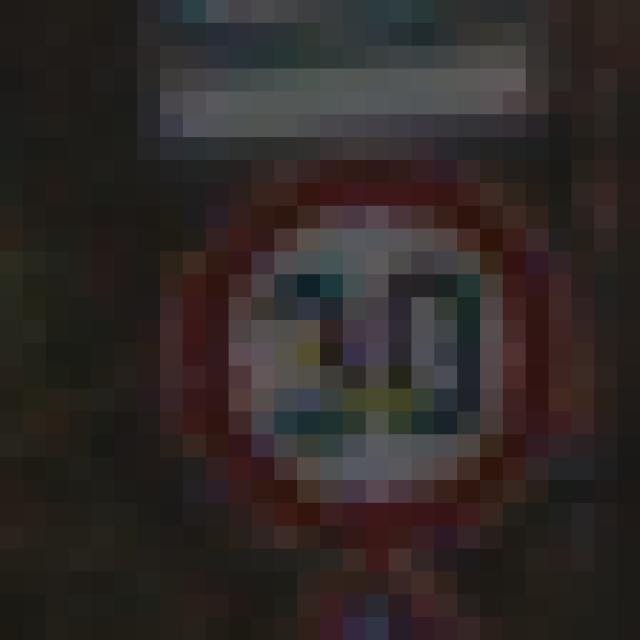Speed Limit -30-: (126, 126, 492, 514)
